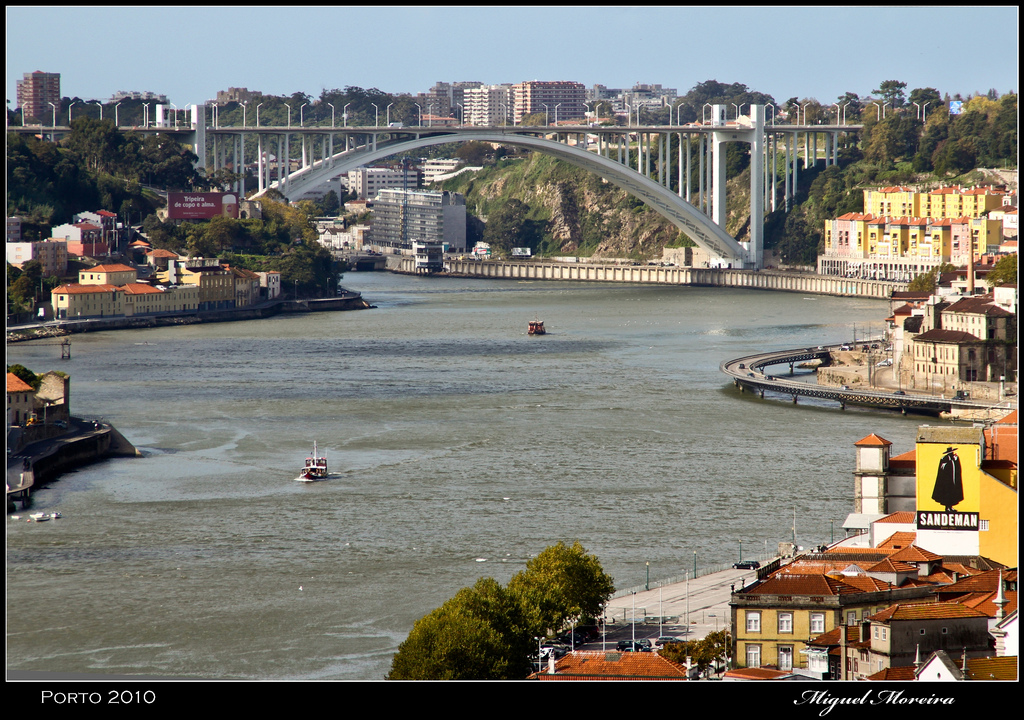arrabida: (133, 101, 866, 271)
